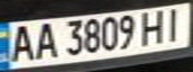0: (100, 14, 121, 52)
3: (60, 17, 84, 56)
8: (81, 16, 103, 54)
9: (115, 11, 142, 50)
A: (3, 21, 39, 63), (30, 20, 60, 61)
H: (136, 8, 169, 45)
I: (157, 6, 190, 43)
